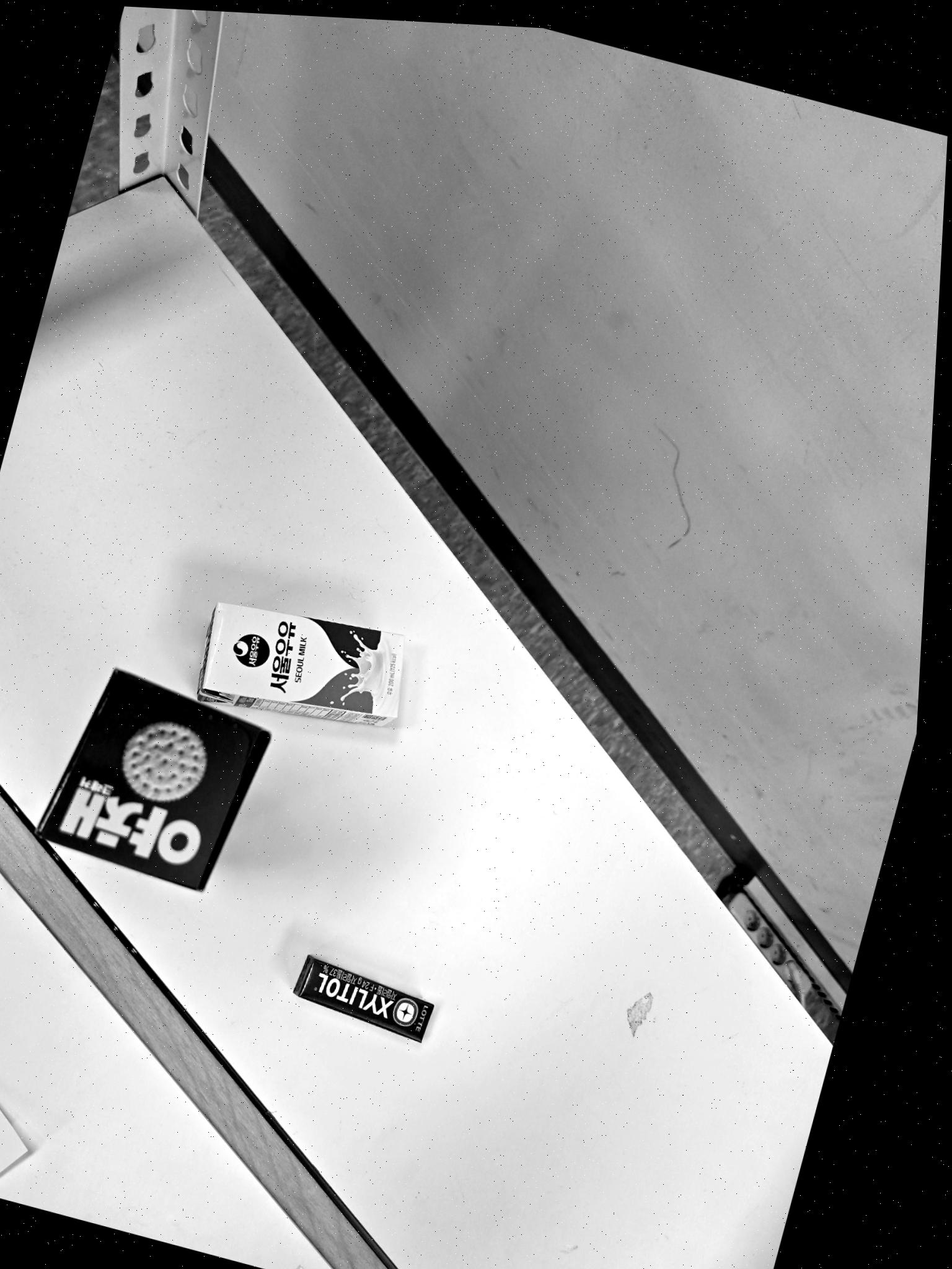cracker_vege: (40, 670, 269, 889)
milk_green: (198, 603, 404, 725)
